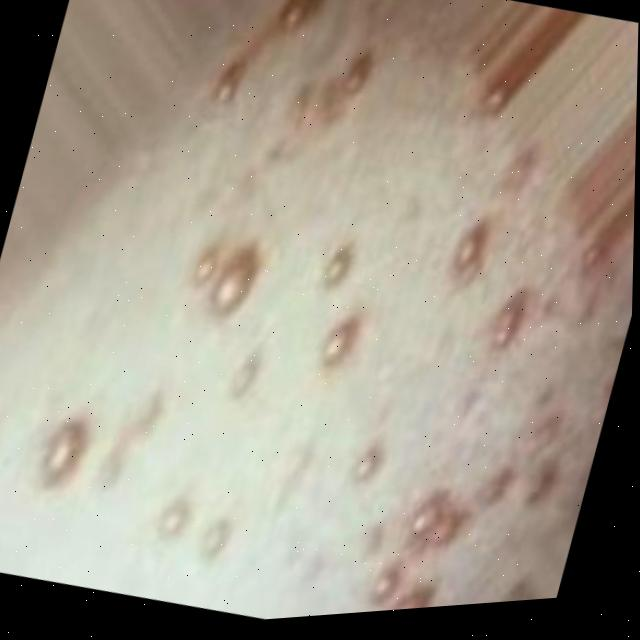Shingles: (37, 0, 640, 636)
